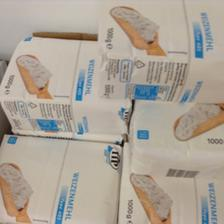Mehl: (0, 36, 130, 140), (96, 0, 222, 102), (0, 132, 122, 224), (127, 100, 223, 176)
